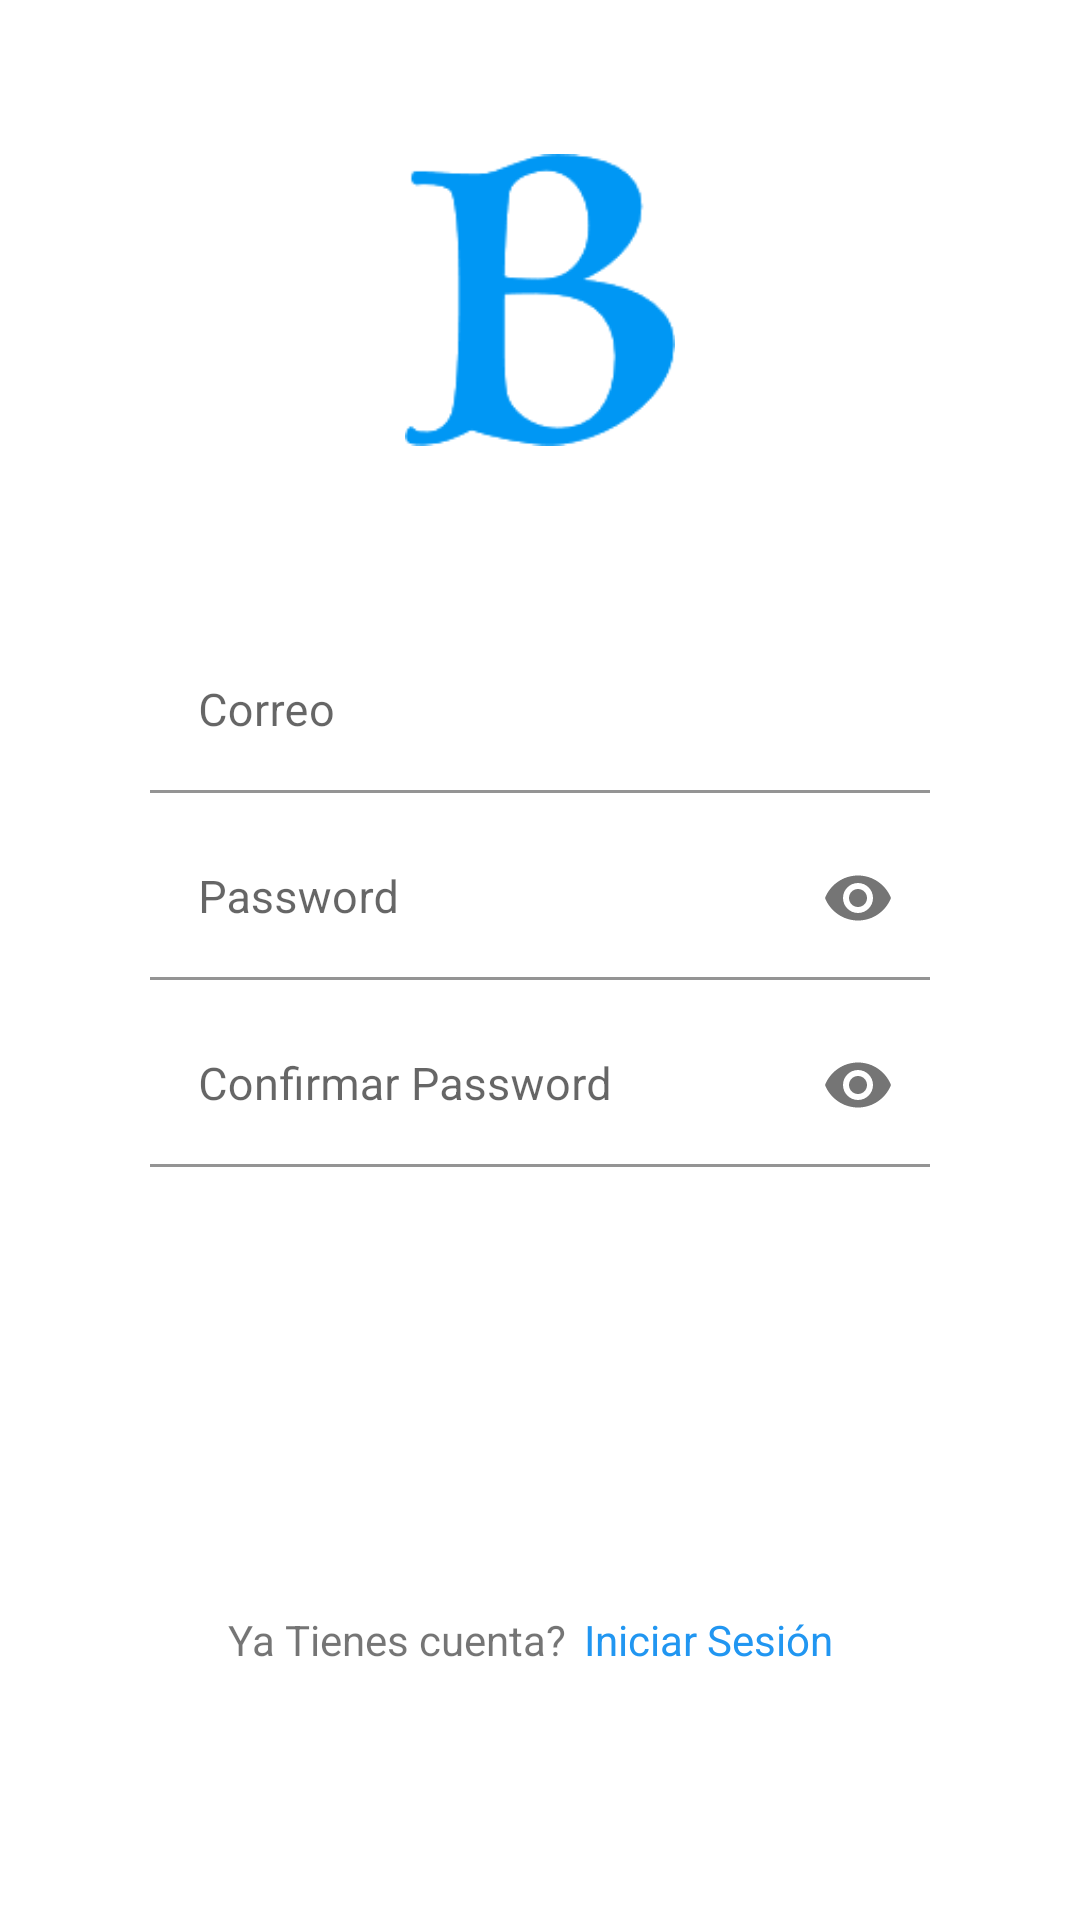

Locate icon controls on the screen. Image size 1080x1920, boxes as region(x1, y1, x2, y2).
blogapp: region(405, 154, 675, 446)
